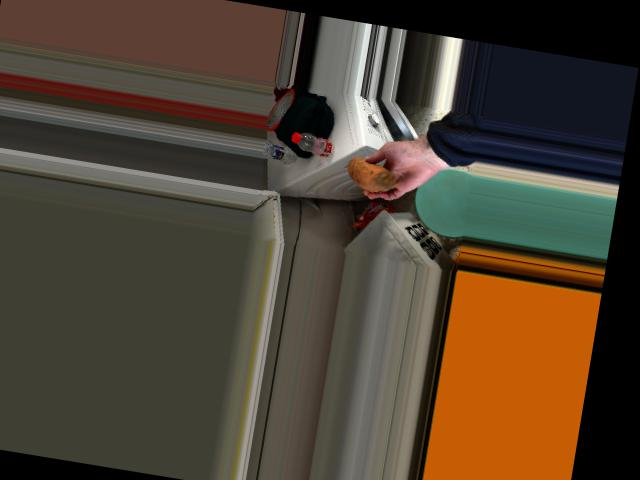sweet_potato: (343, 160, 404, 194)
